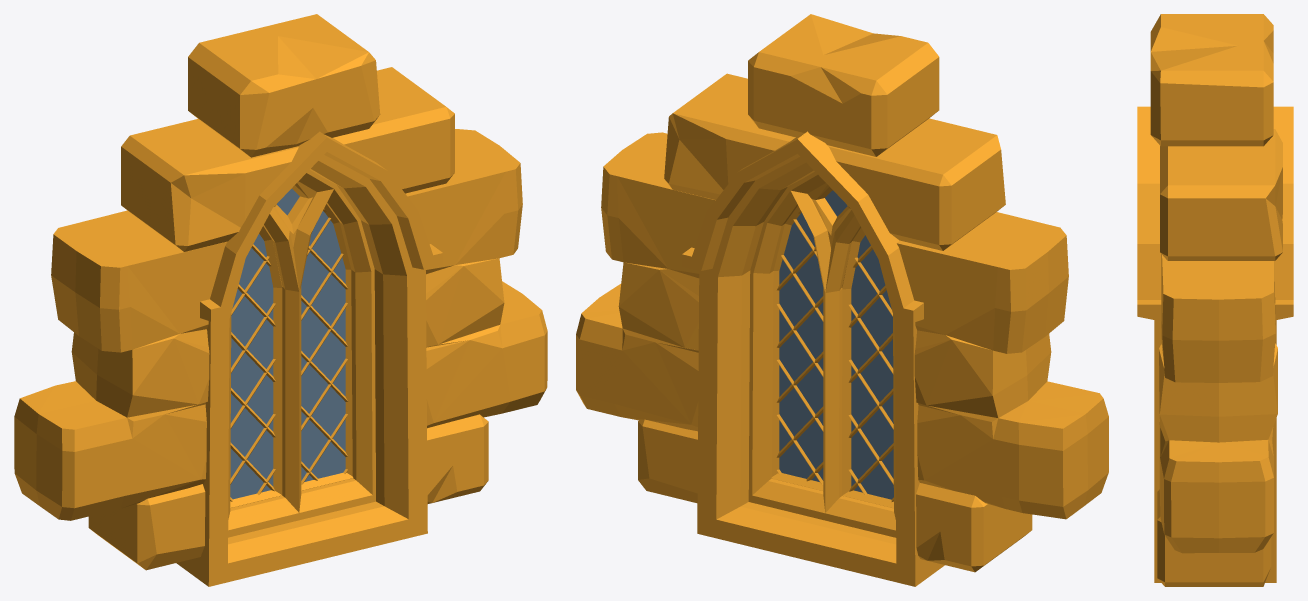
Rendered from SM_Window_Stone_Small_B_Fantasy.fbx.
3 views of the same model, side by side, from view 1: azimuth 30°, elevation 25°; view 2: azimuth 150°, elevation 25°; view 3: azimuth 270°, elevation 25° (orthographic).
Parts seen in each view (by area): view 1: SM_Window_Stone_Small_B_Fantasy; view 2: SM_Window_Stone_Small_B_Fantasy; view 3: SM_Window_Stone_Small_B_Fantasy.
Boxes of the visible parts, x1,y1,x2,y2 form: SM_Window_Stone_Small_B_Fantasy: (14, 14, 547, 586); SM_Window_Stone_Small_B_Fantasy: (576, 14, 1108, 586); SM_Window_Stone_Small_B_Fantasy: (1137, 14, 1293, 586).
Bounding box in the file's own units: 2.22 × 2.13 × 0.6228.
